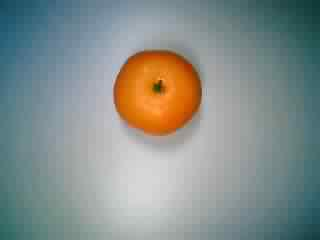orange: (109, 45, 204, 147)
